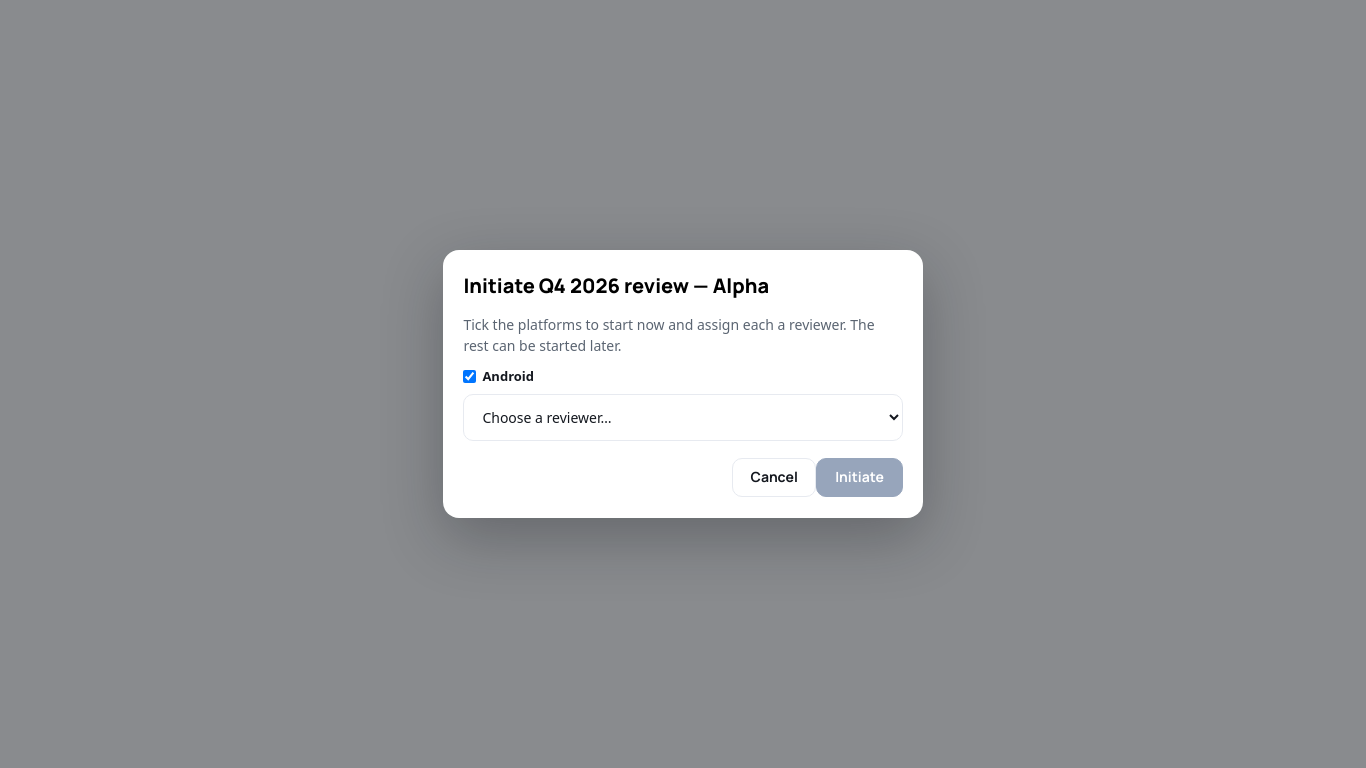
Test case: shows the API error
Select "Rae" in the dropdown named "Reviewer for Android" at (683, 418), box [463,394,903,441]
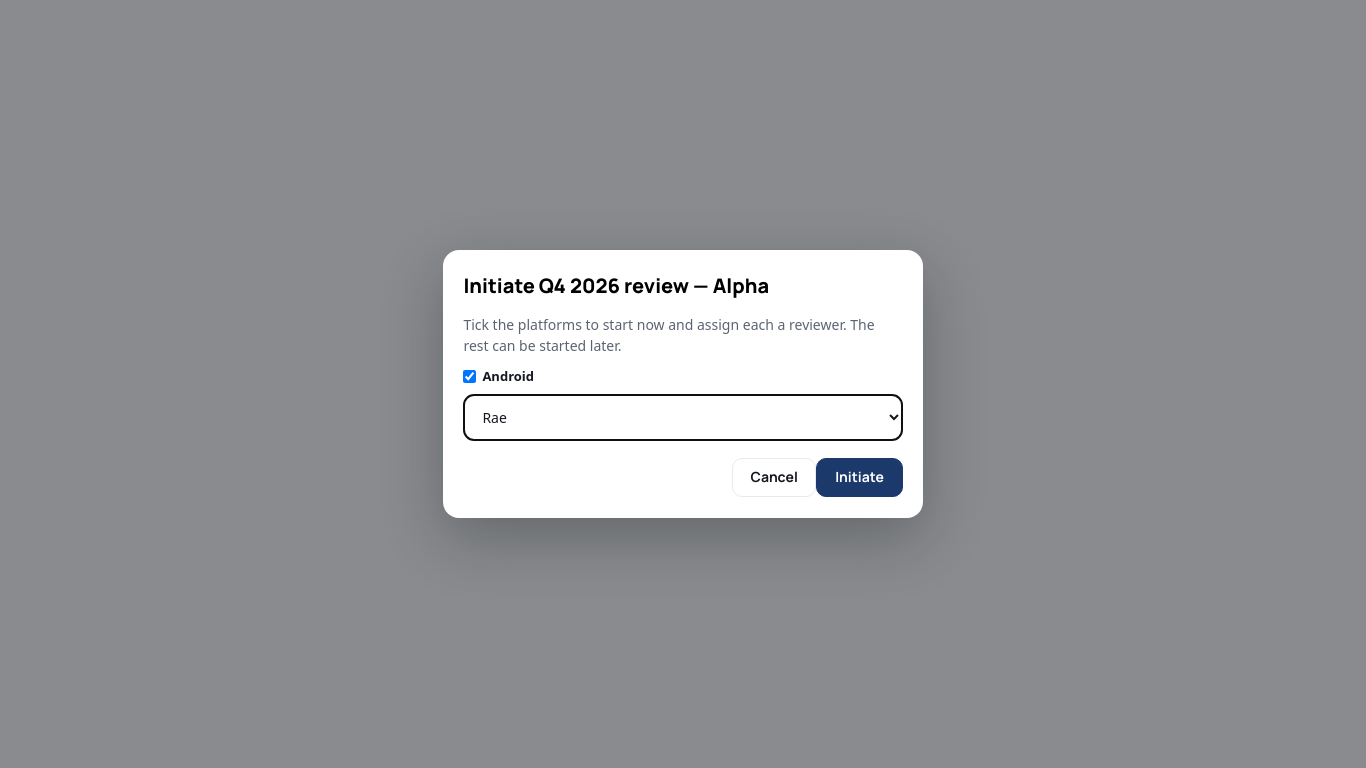
Click the button "Initiate" at (860, 478), box [816,458,903,497]
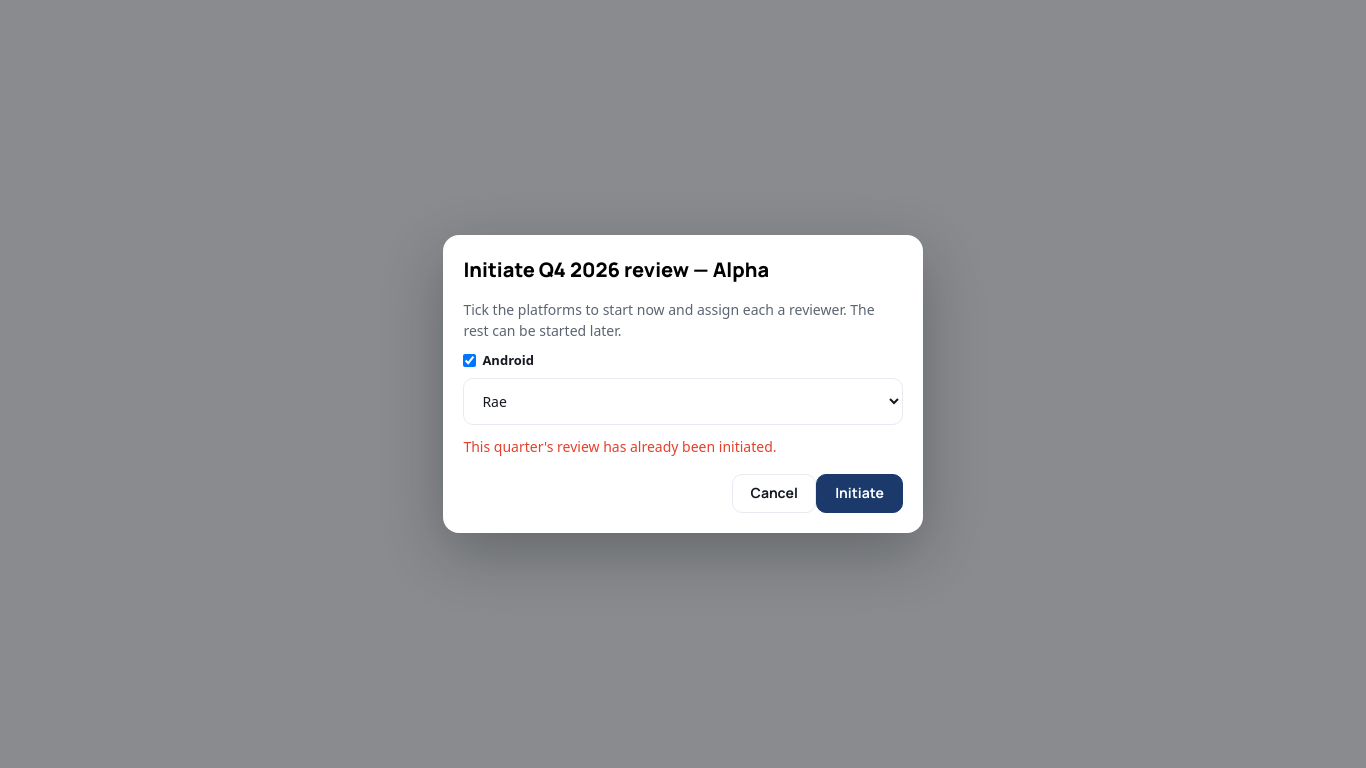
Now the text "This quarter's review has already been initiated." is shown, box [463,437,776,456]
